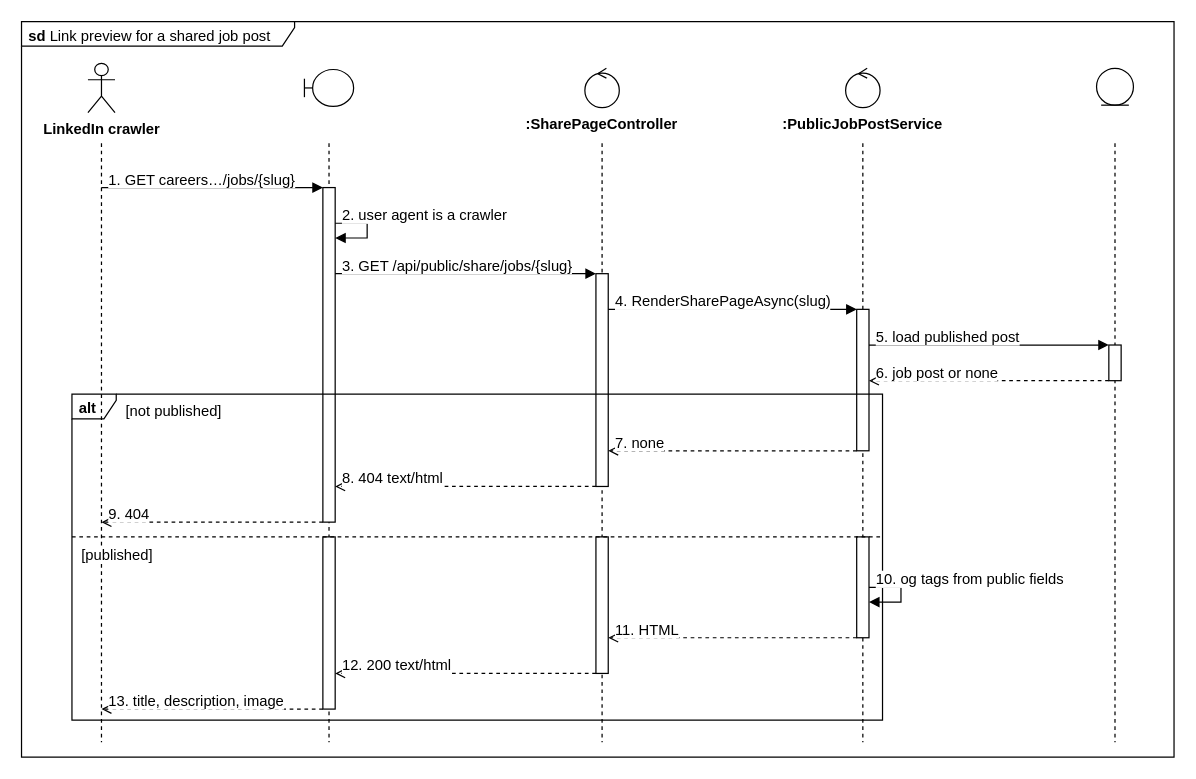
Image size: 1196x779. Some labels were removed from this diagram. Here are the shapes that lost their labels. From the top down, the centre of each, then its label:
At point (328, 87): ":Caddy proxy".
At point (1114, 86): ":Database".
